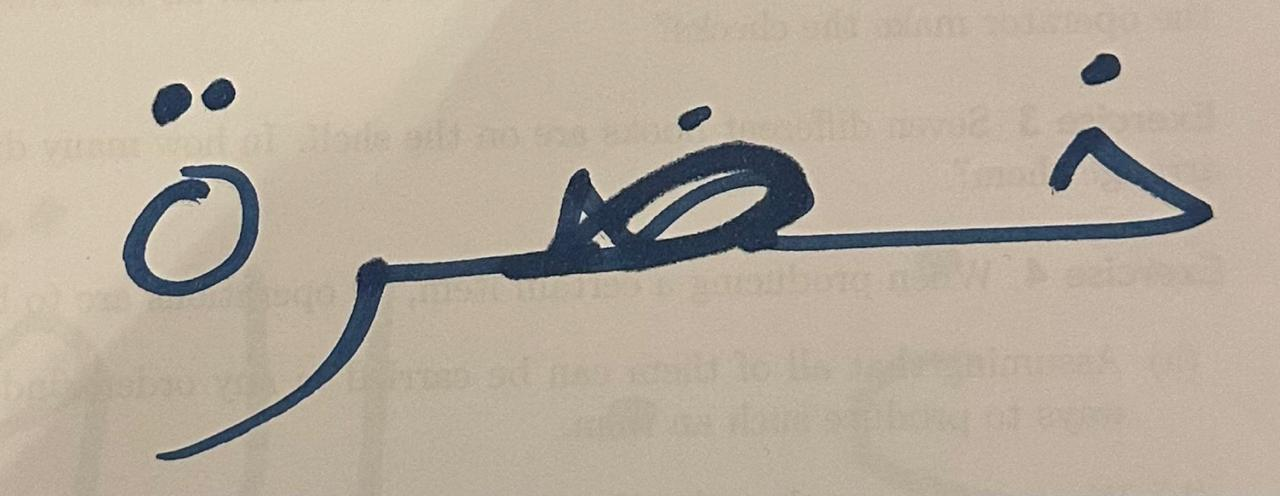dad: (481, 25, 869, 333)
lam: (899, 4, 1237, 323)
sad: (268, 147, 462, 450)
thal: (92, 27, 263, 320)
